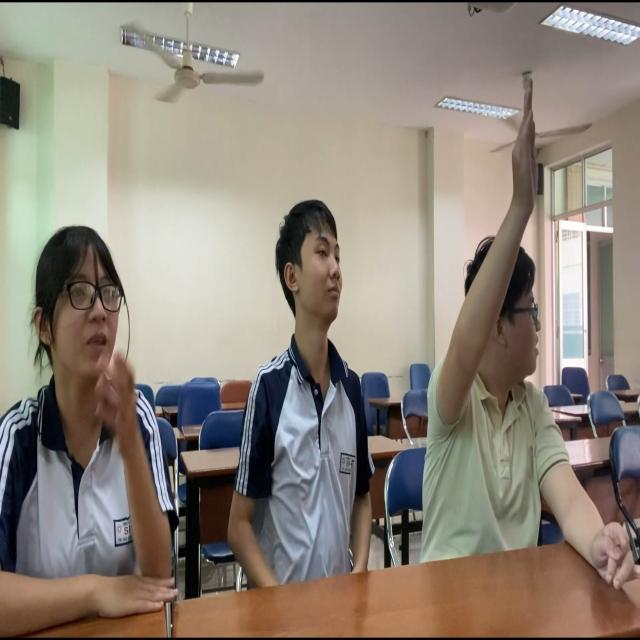raise_hand: (413, 47, 640, 635), (1, 185, 210, 640)
